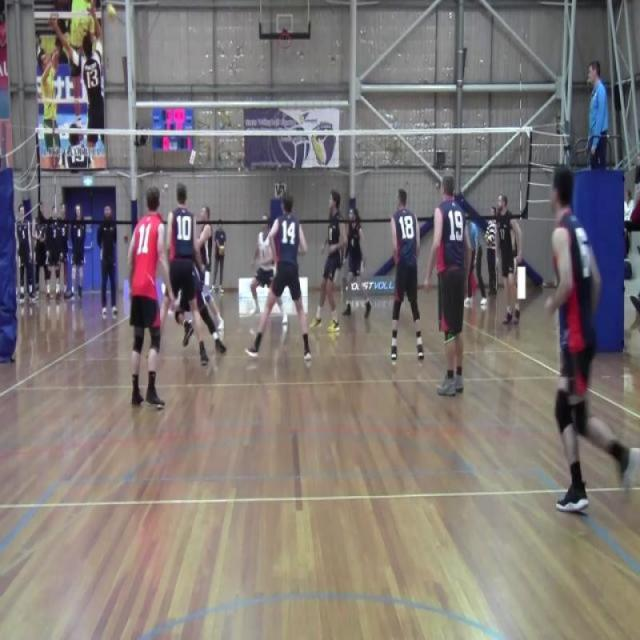volleyball: (104, 3, 118, 25), (217, 243, 225, 257)
